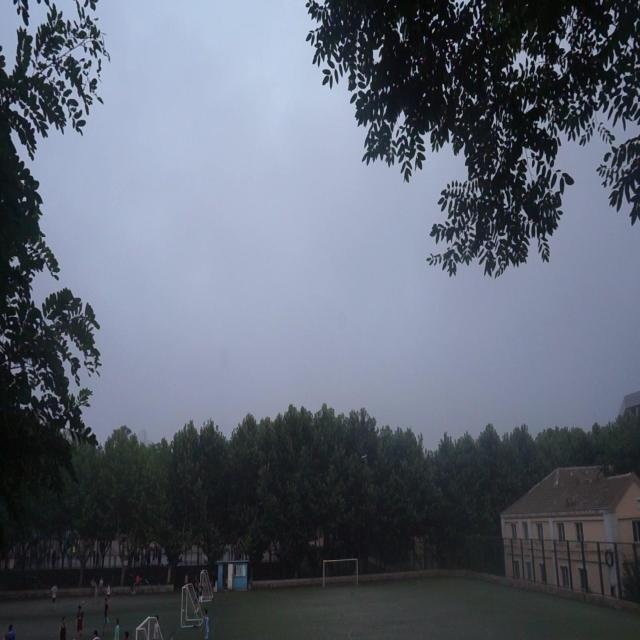drone: (360, 450, 371, 462)
